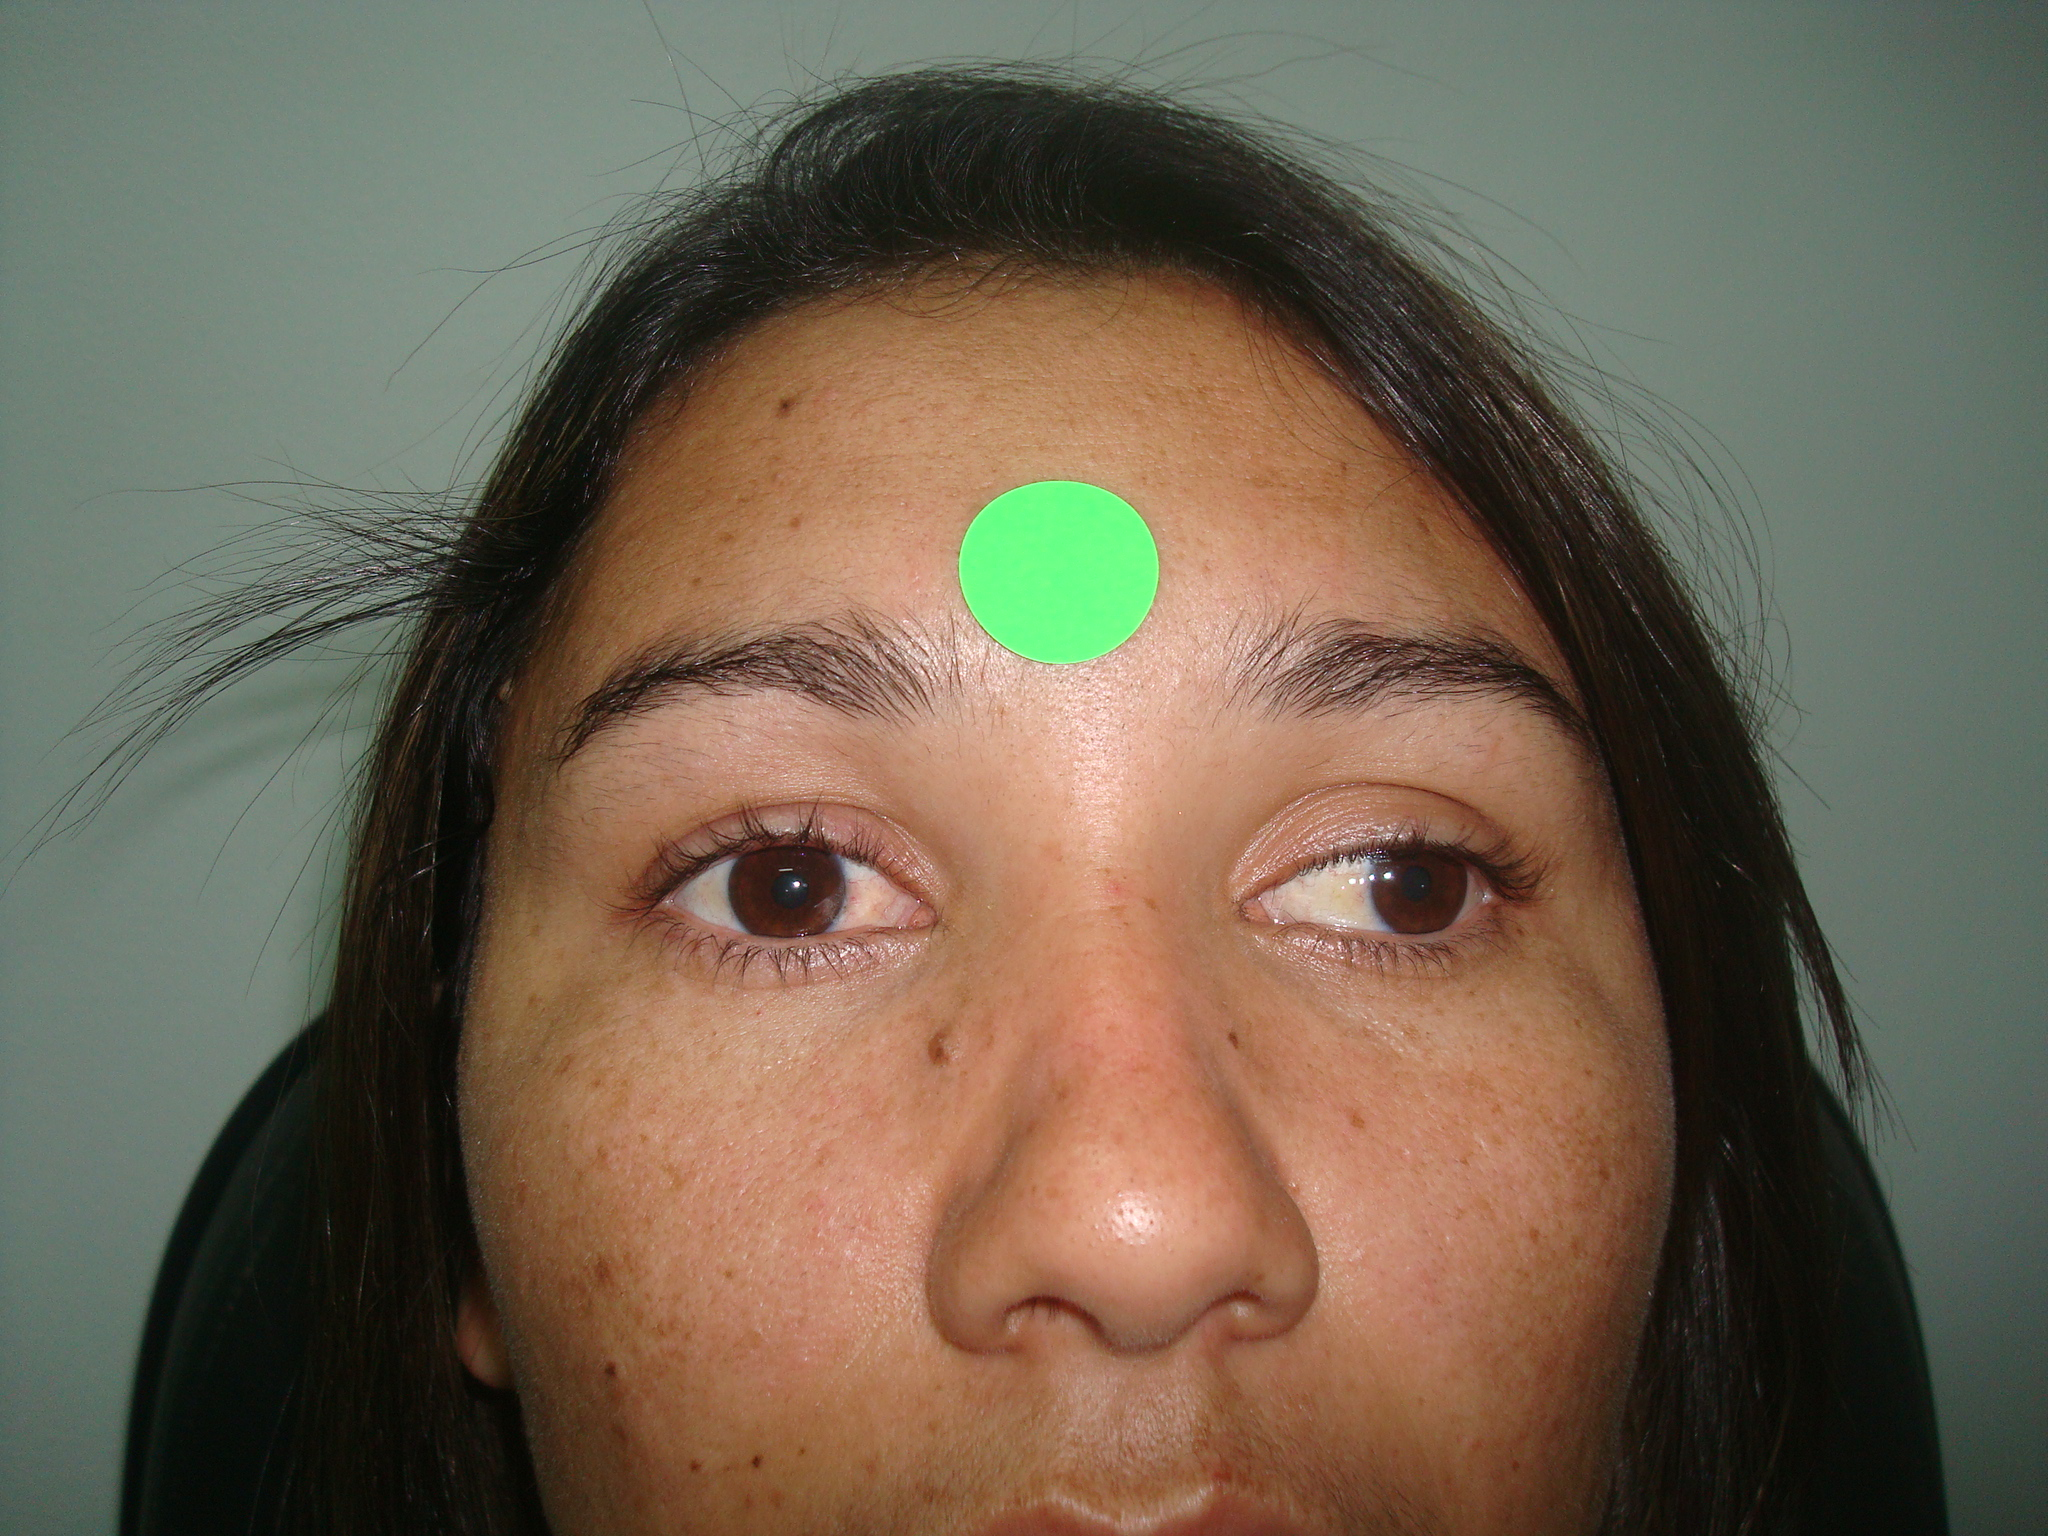flash: (790, 876, 803, 892), (1380, 870, 1395, 883)
limbo: (727, 839, 851, 941), (1367, 834, 1463, 929)
